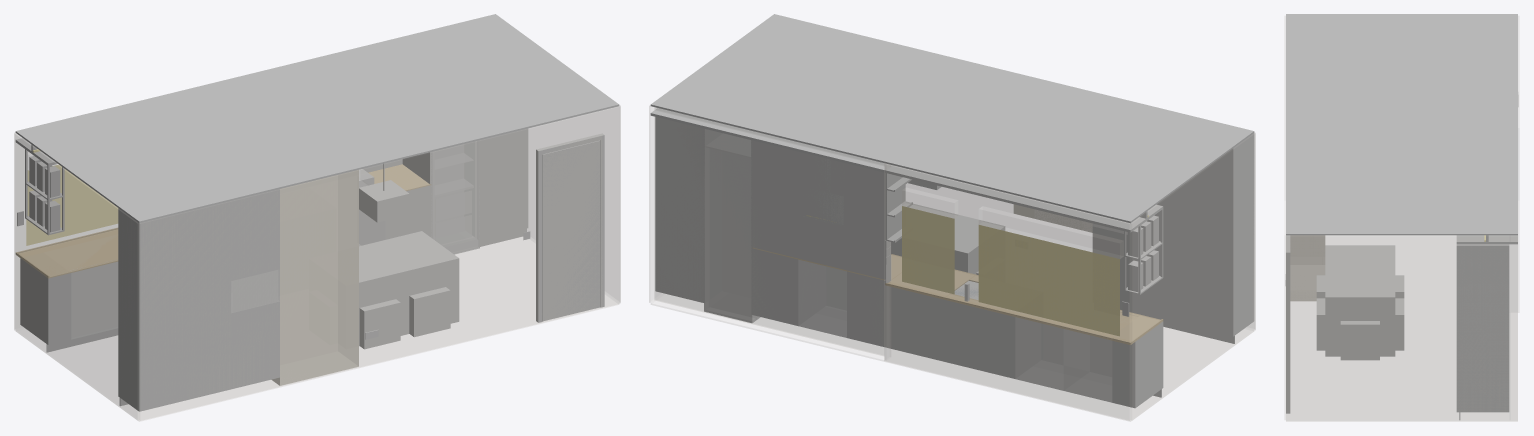
The model's file is cocina.obj.
3 renders of one model, left to right at view 1: azimuth 30°, elevation 25°; view 2: azimuth 150°, elevation 25°; view 3: azimuth 270°, elevation 25°, orthographic. The views are drawn at different scales.
Parts seen in each view (by area): view 1: Pared Sur, Techo, Pared Oeste, Columna azulejo, Suelo, Puerta, Caldera, Despensa Sur, Mesa comedor, Pared Este, Frigorífico, Escobero (+21 smaller); view 2: Techo, Pared Norte izq, Pared Norte der, Pared Oeste, Ventana grande, Suelo, Frigorífico, Escobero, Caldera, Salpicadero, Cajones, Vuelo (+25 smaller); view 3: Techo, Pared Este, Suelo, Lado der Escobero, Mesa comedor, Columna azulejo, Silla 6, Marco puerta der, Pared Sur, Vuelo, Pared Norte izq, Silla 2 (+4 smaller).
Part boxes in pixels (x1,y1,x2,y2): Pared Sur: [139, 106, 619, 420]; Techo: [15, 14, 619, 223]; Pared Oeste: [14, 133, 138, 420]; Columna azulejo: [271, 169, 358, 385]; Suelo: [16, 237, 618, 421]; Puerta: [542, 140, 600, 321]; Caldera: [139, 213, 185, 411]; Despensa Sur: [185, 202, 231, 400]; Mesa comedor: [359, 231, 459, 345]; Pared Este: [527, 105, 620, 302]; Frigorífico: [431, 141, 479, 254]; Escobero: [480, 128, 528, 239]; Techo: [650, 14, 1254, 223]; Pared Norte izq: [884, 163, 1130, 420]; Pared Norte der: [654, 107, 884, 355]; Pared Oeste: [1131, 133, 1255, 420]; Ventana grande: [978, 225, 1119, 336]; Suelo: [651, 294, 1253, 421]; Frigorífico: [704, 129, 760, 323]; Escobero: [655, 117, 703, 301]; Caldera: [1187, 149, 1233, 334]; Salpicadero: [752, 204, 890, 280]; Cajones: [847, 255, 943, 359]; Vuelo: [650, 108, 1163, 232]; Techo: [1286, 14, 1517, 235]; Pared Este: [1286, 235, 1517, 420]; Suelo: [1286, 236, 1517, 421]; Lado der Escobero: [1456, 245, 1509, 412]; Mesa comedor: [1325, 245, 1395, 356]; Columna azulejo: [1290, 235, 1325, 301]; Silla 6: [1340, 321, 1379, 360]; Marco puerta der: [1286, 250, 1290, 413]; Pared Sur: [1284, 16, 1285, 419]; Vuelo: [1456, 235, 1517, 244]; Pared Norte izq: [1518, 16, 1519, 312]; Silla 2: [1316, 298, 1325, 350].
Size of the model in its own units: 5.98 by 2.37 by 2.69.
